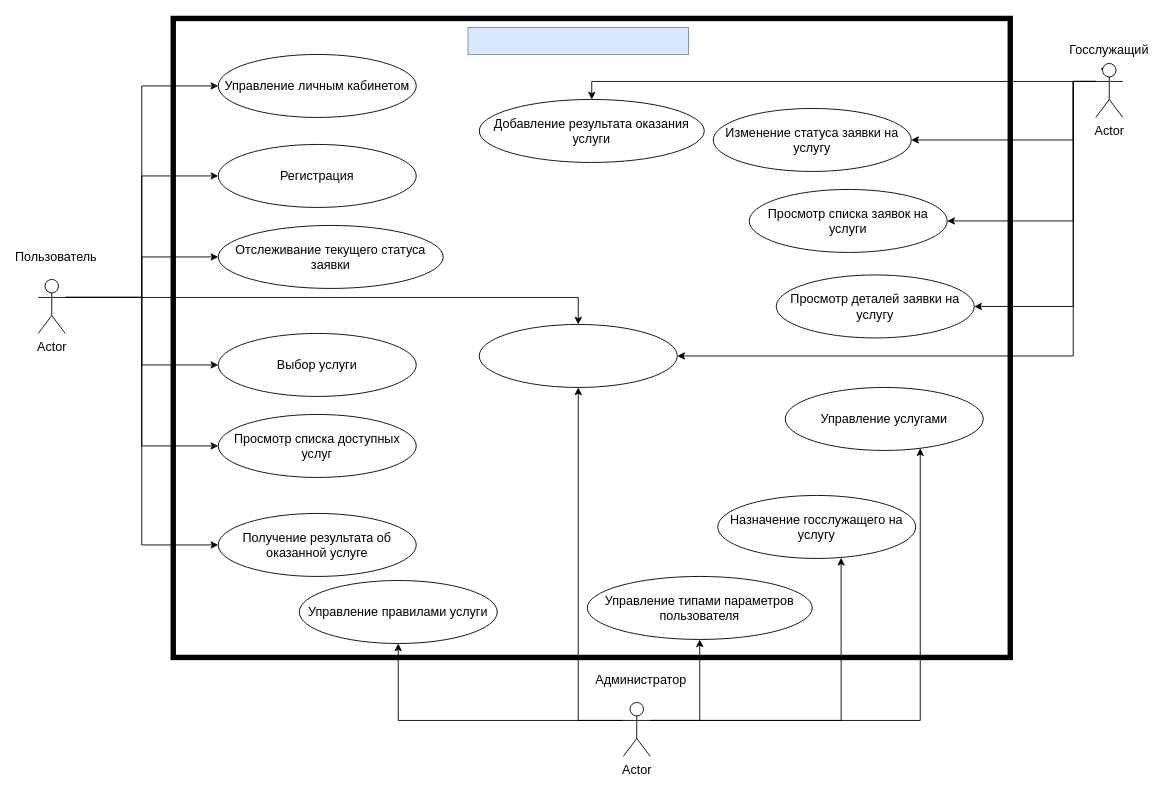
Some shapes in this 1165 by 793 pixel diagram are drawn without their labels. Here are the shapes that lost their labels. From the top down, the box of each, then its label:
(467, 27, 688, 54): Система дорожной карты
(478, 324, 677, 387): Аутентификация
